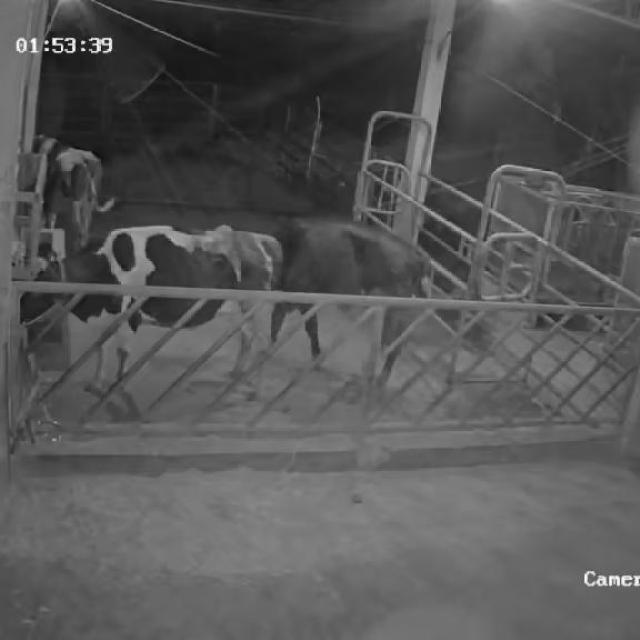standing: (19, 220, 275, 402), (270, 207, 430, 393), (34, 134, 112, 249)
